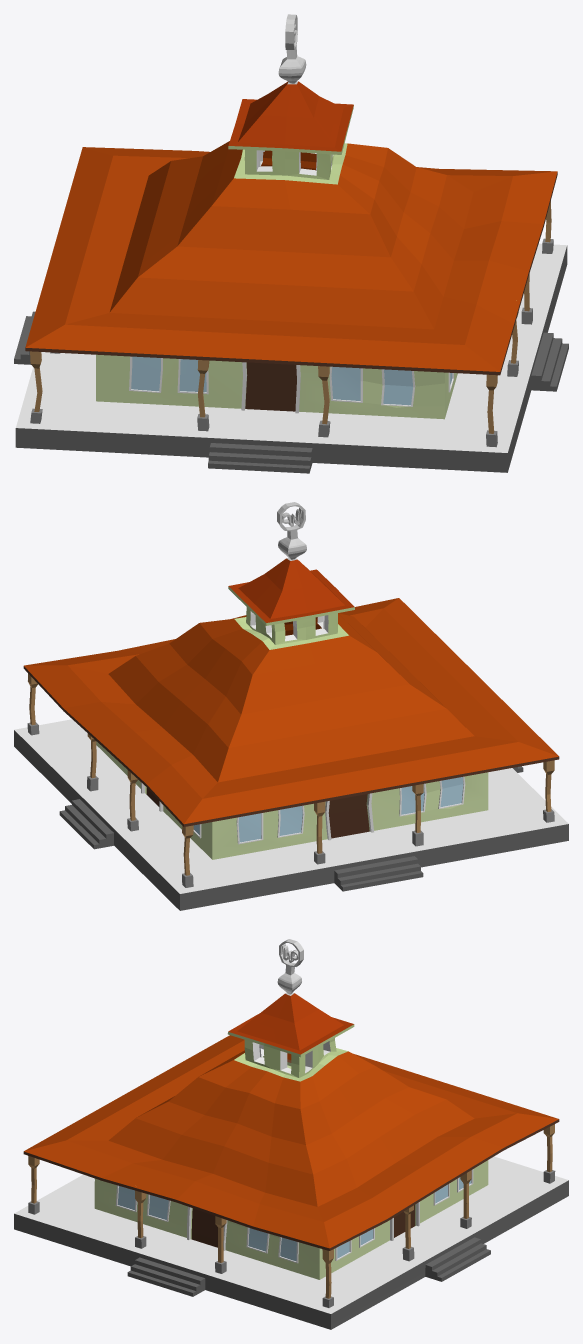
Rendered from masjid.fbx.
The picture shows the model from 3 angles, top to bottom: view 1: azimuth 30°, elevation 25°; view 2: azimuth 150°, elevation 25°; view 3: azimuth 270°, elevation 25°; orthographic projection. The views are drawn at different scales.
Parts seen in each view (by area): view 1: Cube.147; view 2: Cube.147; view 3: Cube.147.
Part boxes in pixels (x1,y1,x2,y2): Cube.147: [14, 14, 568, 473]; Cube.147: [14, 502, 568, 910]; Cube.147: [14, 939, 568, 1329].
Size of the model in its own units: 4347 by 2345 by 4347.
